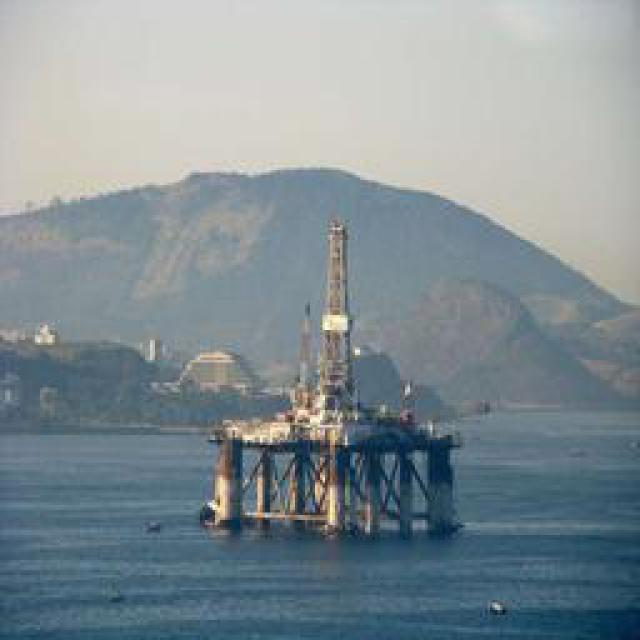Ship: (200, 215, 428, 540)
